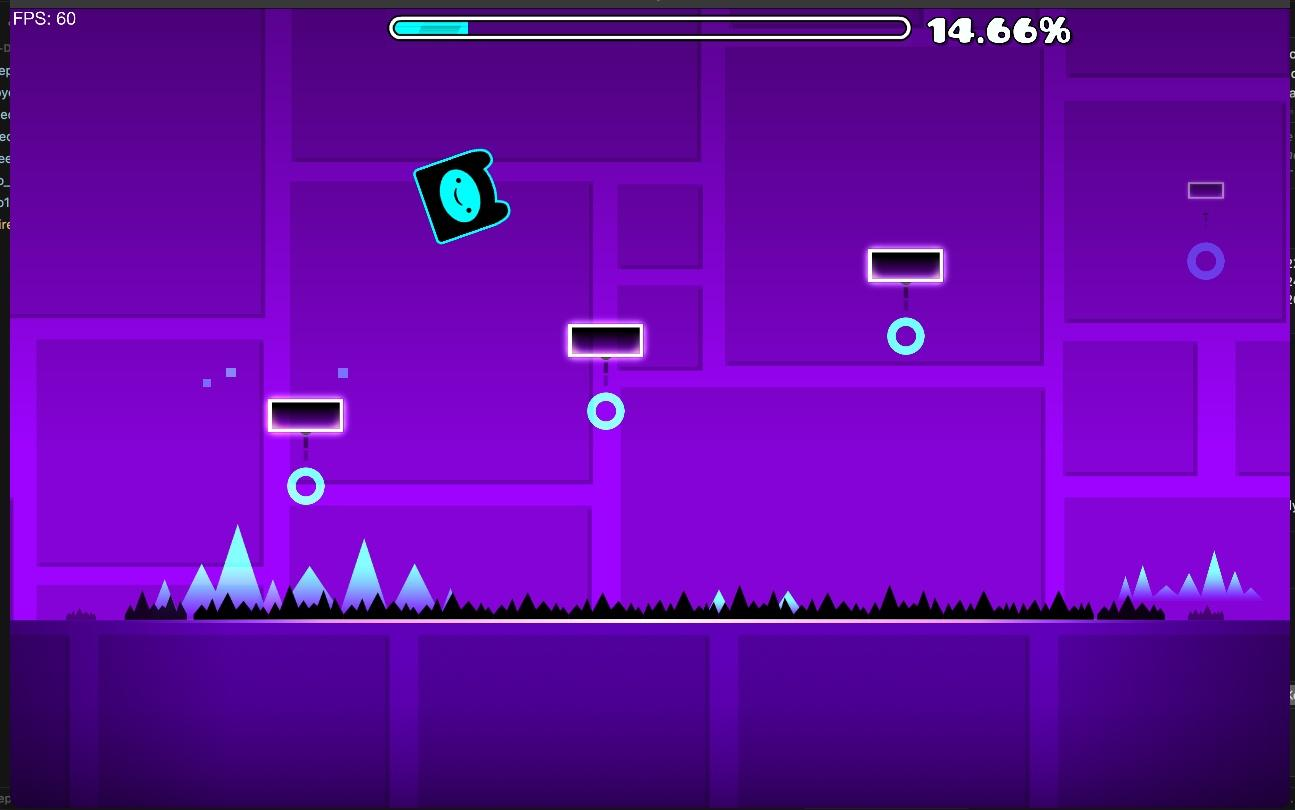platform: (866, 249, 943, 284), (267, 398, 343, 432), (568, 324, 643, 357), (1188, 181, 1224, 199)
player: (414, 150, 509, 243)
spike: (125, 526, 1260, 620)
